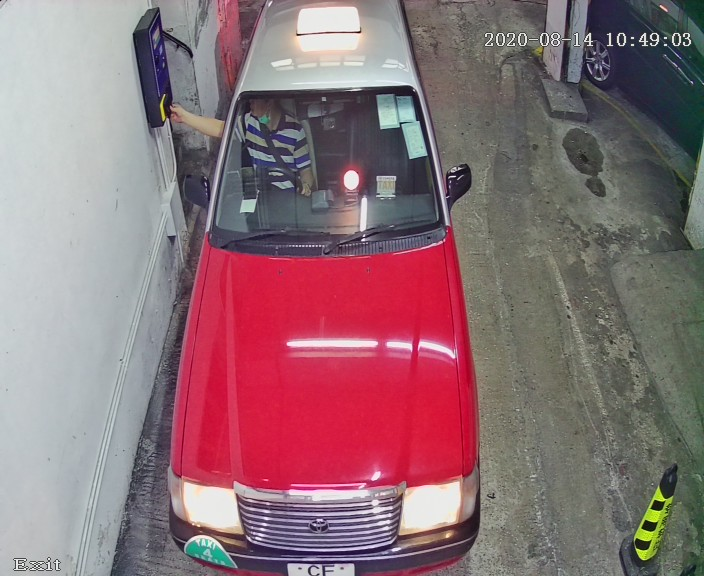taxi: (164, 3, 488, 576)
taxi_mark: (180, 525, 242, 576)
